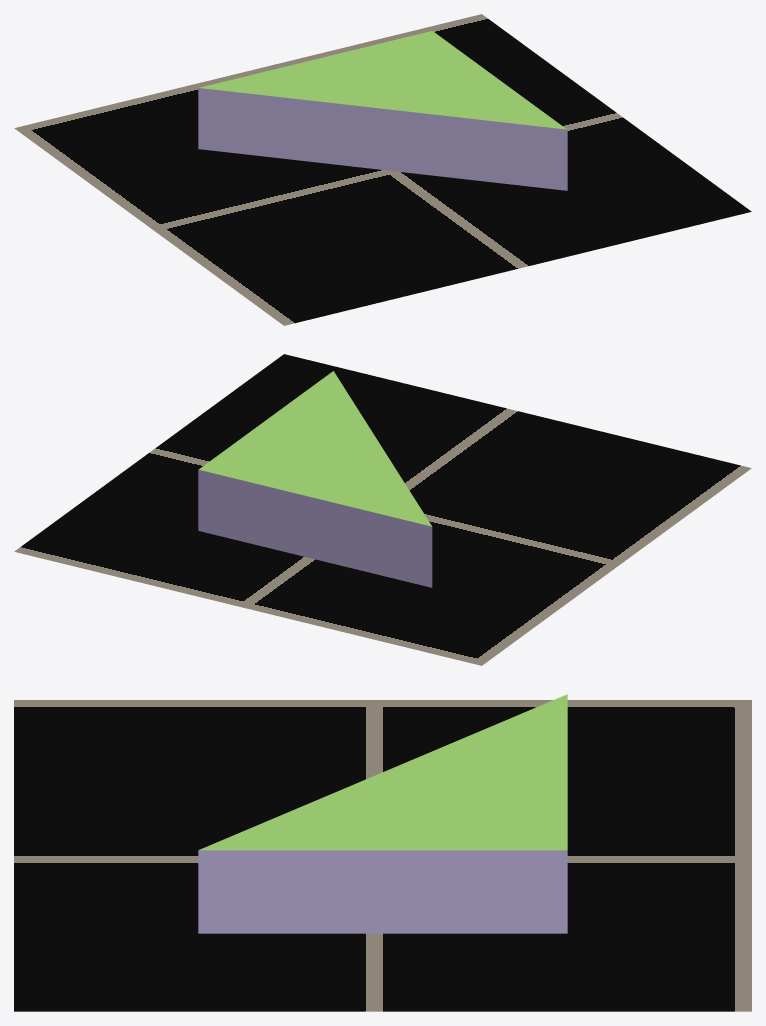
The model's file is Tiered_Grass_45_Degrees_Straight_1x1.glb.
3 renders of one model, top to bottom at view 1: azimuth 30°, elevation 25°; view 2: azimuth 150°, elevation 25°; view 3: azimuth 270°, elevation 25°, orthographic. The views are drawn at different scales.
Parts seen in each view (by area): view 1: Floor, Tiered_Grass_45_Degrees_Straight_1x1; view 2: Floor, Tiered_Grass_45_Degrees_Straight_1x1; view 3: Floor, Tiered_Grass_45_Degrees_Straight_1x1.
Boxes of the visible parts, x1,y1,x2,y2 form: Floor: [14, 14, 751, 325]; Tiered_Grass_45_Degrees_Straight_1x1: [198, 31, 567, 190]; Floor: [14, 354, 751, 665]; Tiered_Grass_45_Degrees_Straight_1x1: [198, 371, 432, 587]; Floor: [14, 700, 751, 1011]; Tiered_Grass_45_Degrees_Straight_1x1: [198, 694, 567, 933].
Size of the model in its own units: 200 by 25 by 200.
Materials: 4 (1 with a texture image).
